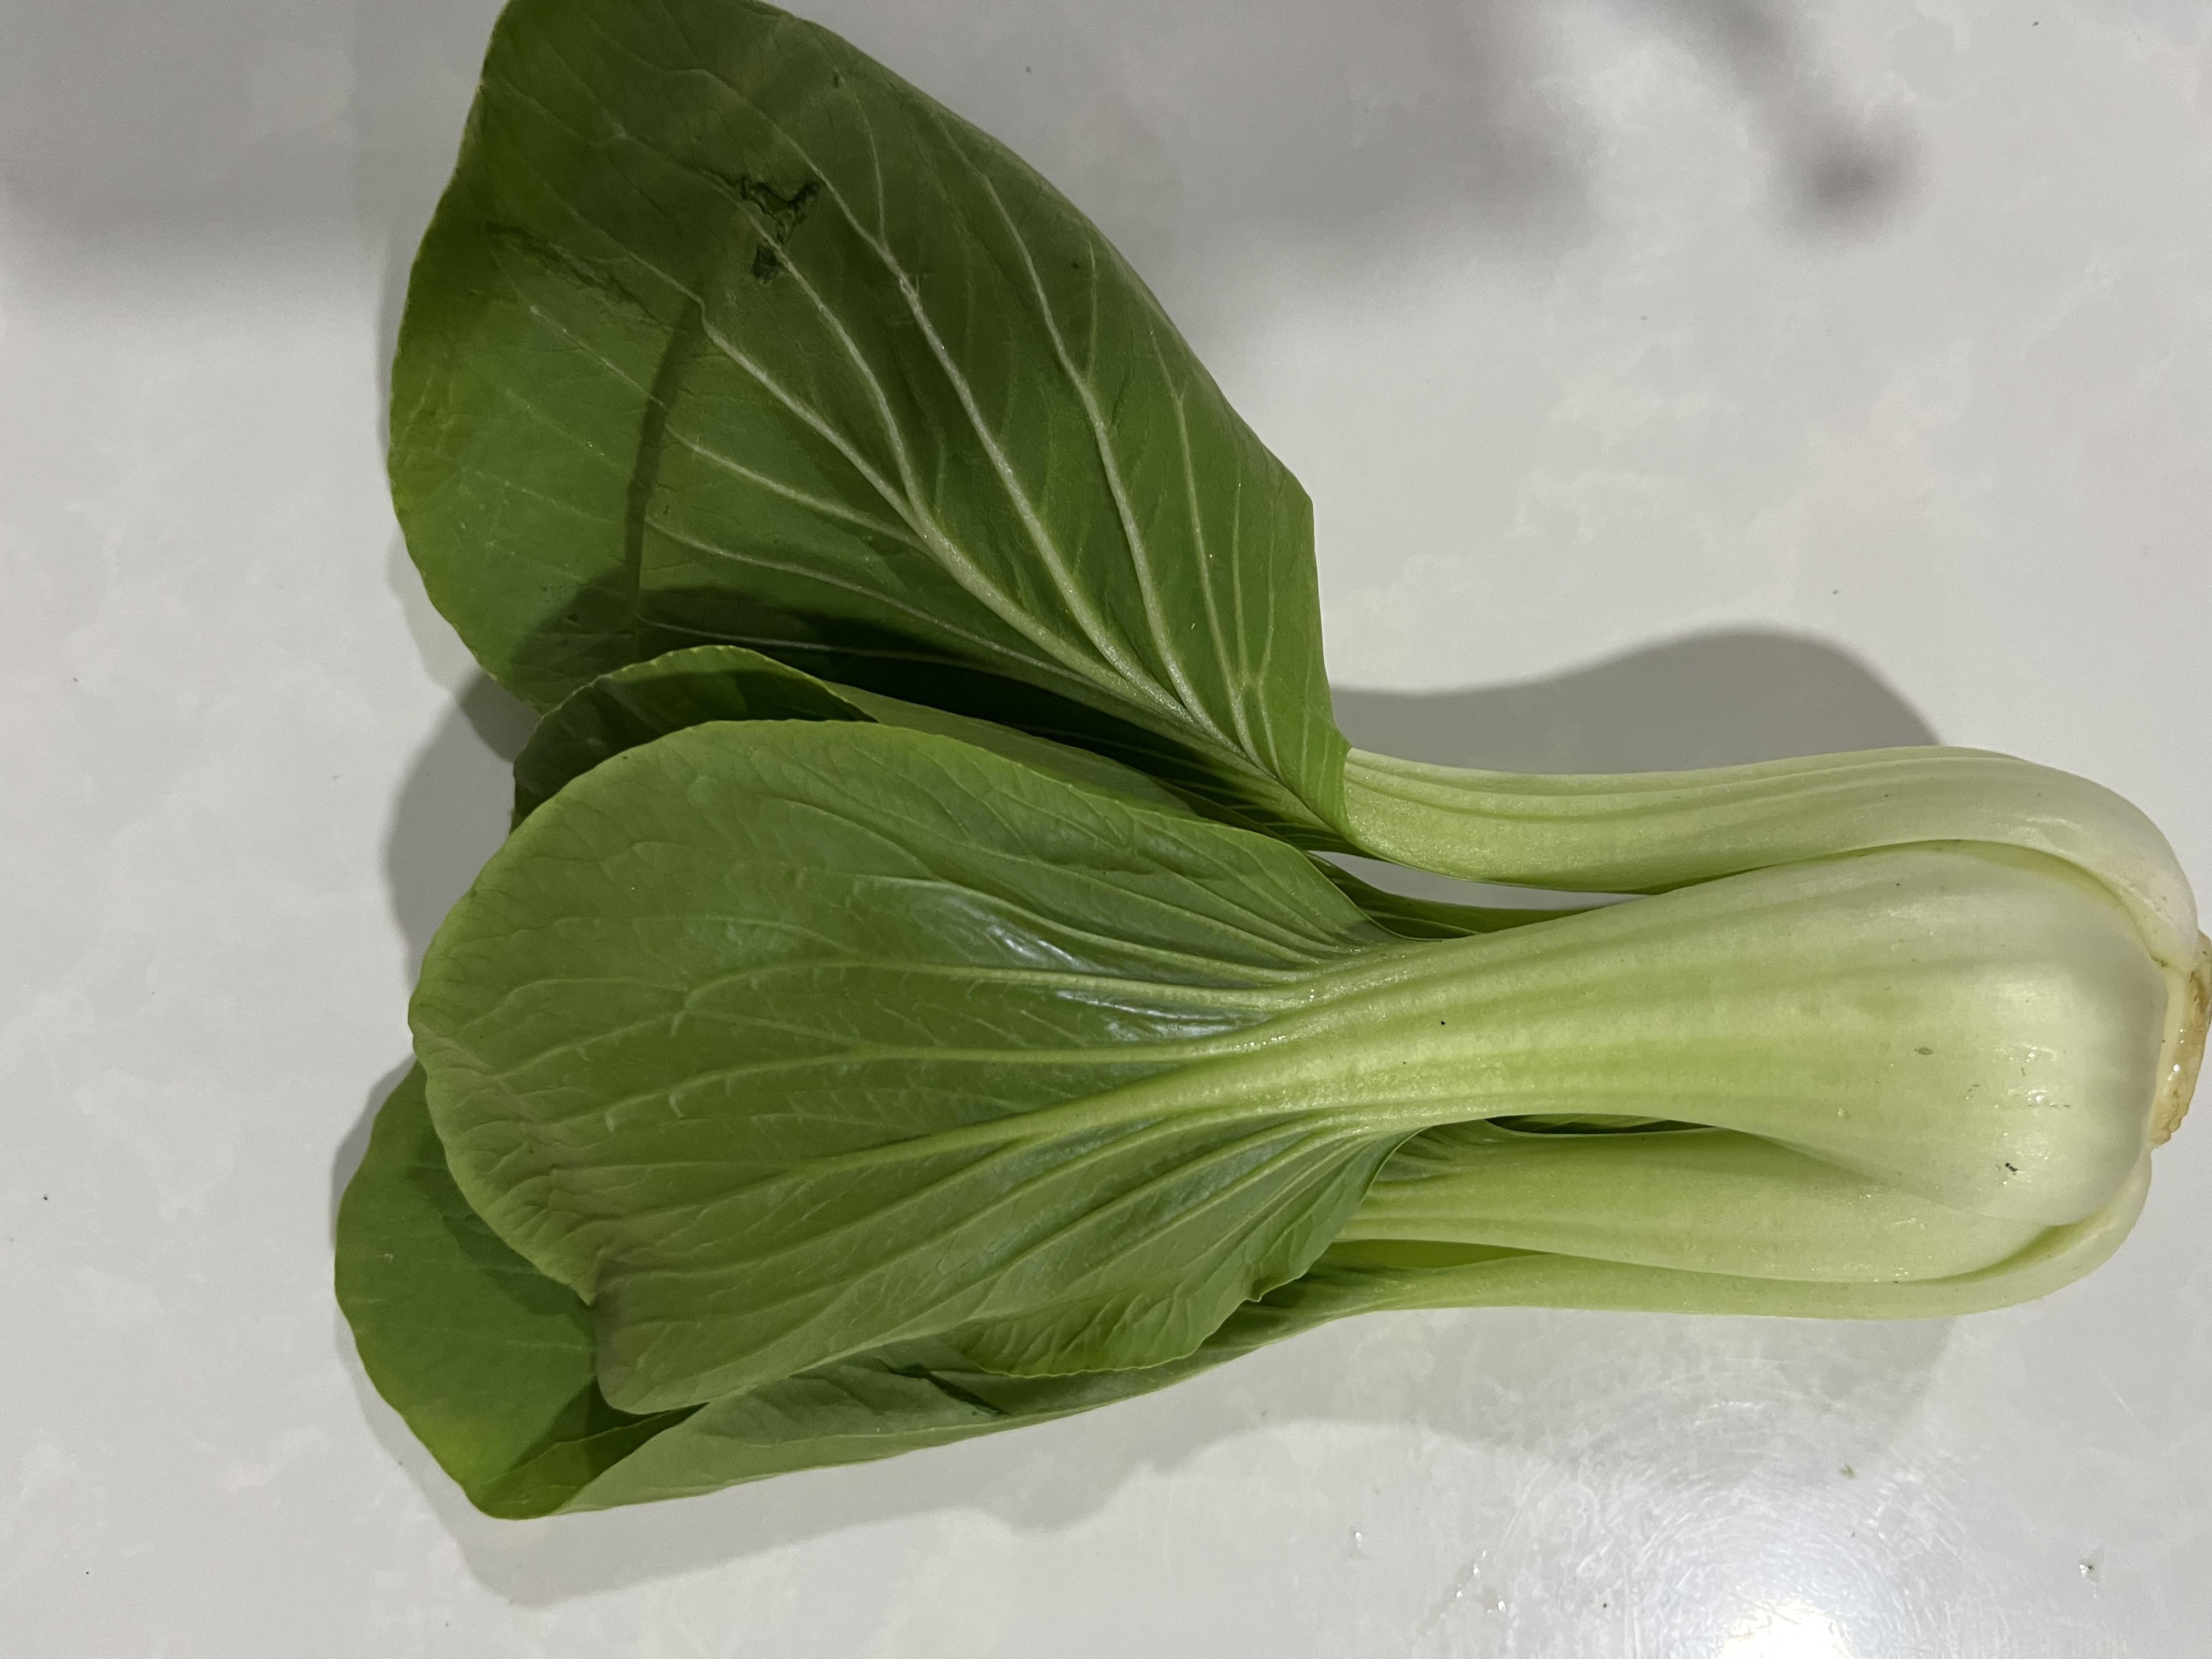Healthy-Pechay: (235, 16, 2107, 1432)
